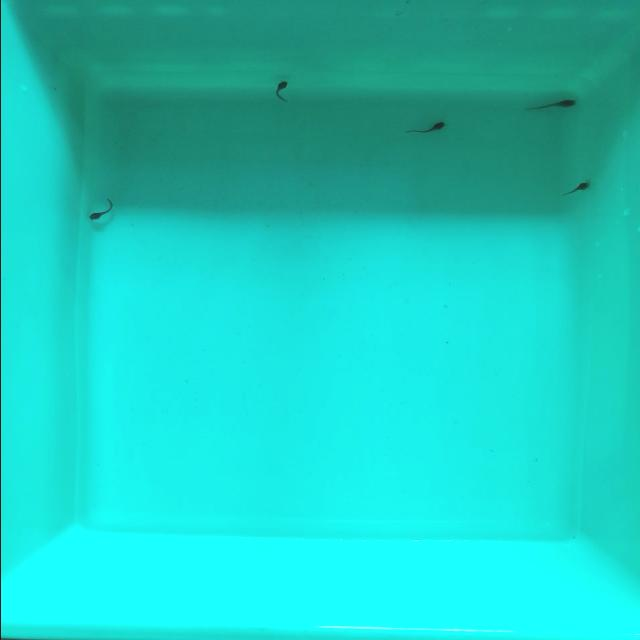lele: (86, 199, 119, 222), (404, 120, 447, 134), (526, 100, 576, 112), (562, 182, 590, 194), (275, 80, 287, 102)
